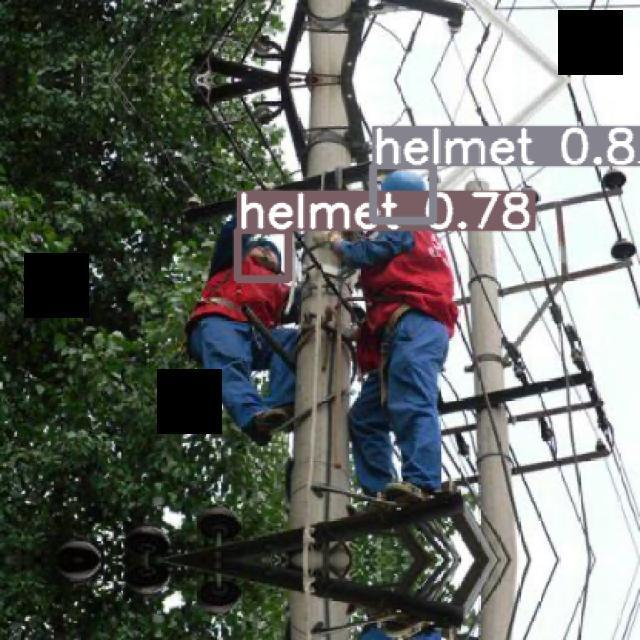blue helmet: (382, 162, 438, 214), (238, 228, 288, 274)
